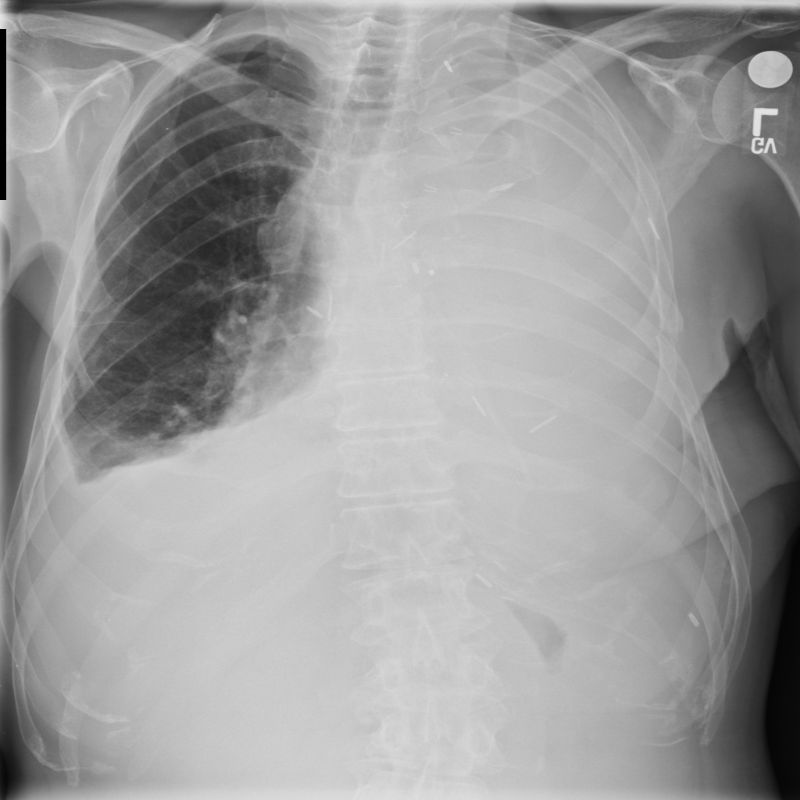PLEURAL EFFUSION: (439, 123, 623, 405), (15, 428, 153, 571)
